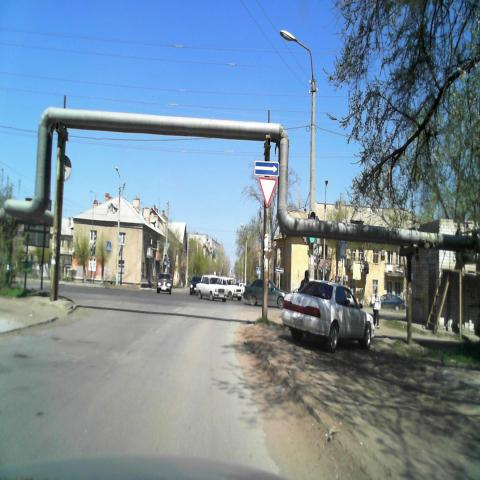5_7_1: (253, 160, 279, 176)
